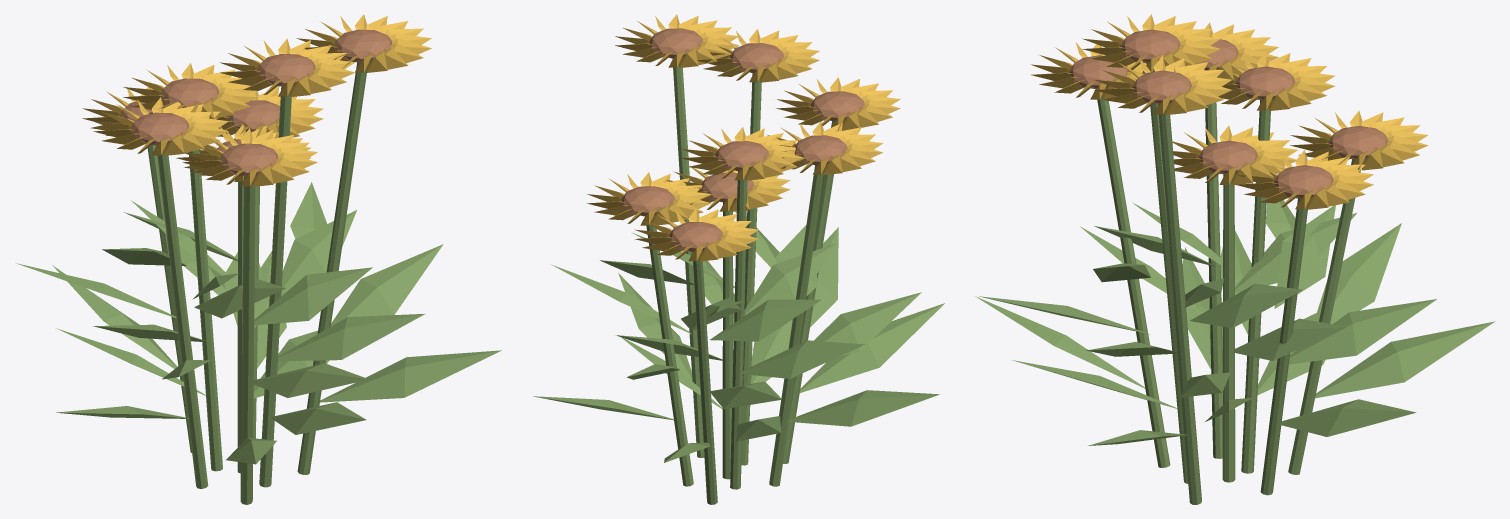
The picture shows the model from 3 angles, left to right: view 1: azimuth 30°, elevation 25°; view 2: azimuth 150°, elevation 25°; view 3: azimuth 270°, elevation 25°; orthographic projection. The views are drawn at different scales.
Parts seen in each view (by area): view 1: GF-250 Orange flowered pot marigold batched; view 2: GF-250 Orange flowered pot marigold batched; view 3: GF-250 Orange flowered pot marigold batched.
Boxes of the visible parts, x1,y1,x2,y2 form: GF-250 Orange flowered pot marigold batched: [16, 14, 501, 504]; GF-250 Orange flowered pot marigold batched: [533, 14, 944, 504]; GF-250 Orange flowered pot marigold batched: [975, 14, 1495, 504].
Size of the model in its own units: 0.3053 by 0.3148 by 0.3318.
